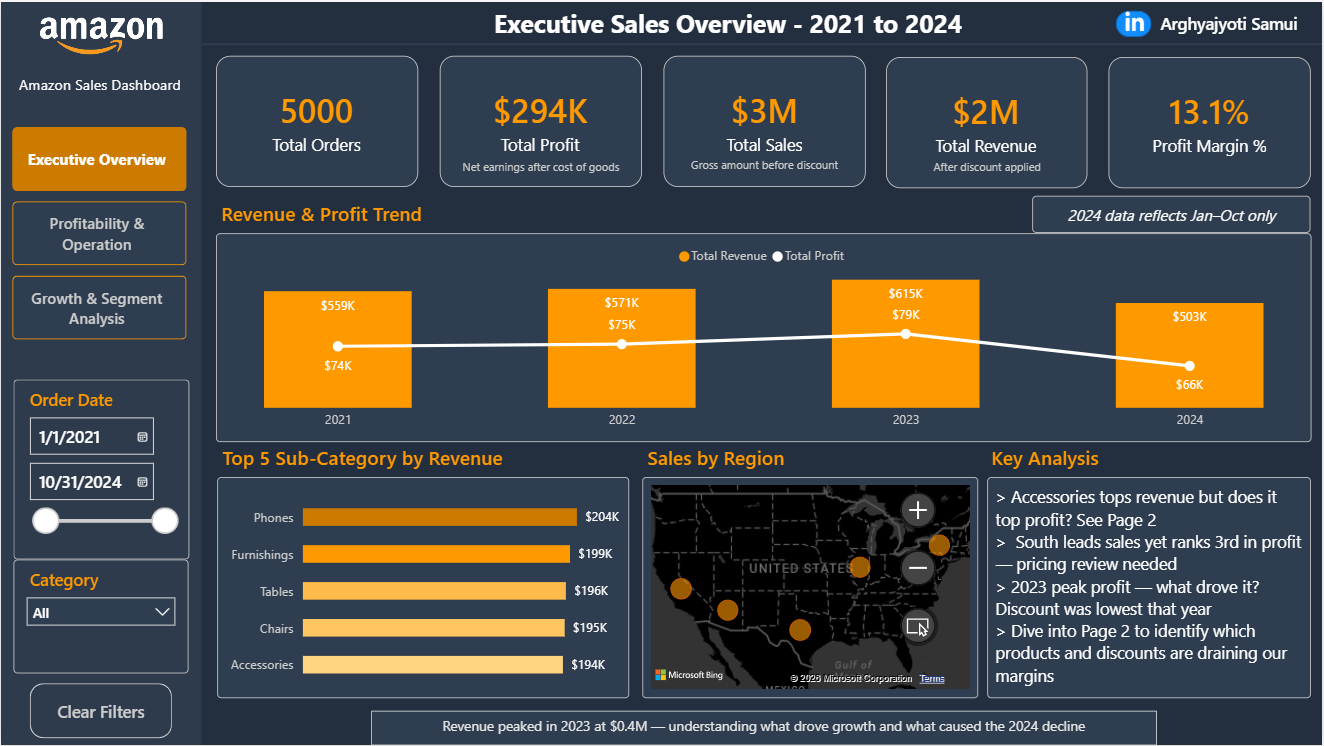

Layout of this report page (visuals, bound fields, positions):
{"tool":"powerbi","page":{"name":"Executive Overview","canvas":[1280,720],"ordinal":0},"visuals":[{"type":"shape","box":[0,0,194.3,720],"z":0},{"type":"textbox","box":[11.4,65.7,170,50],"z":1000},{"type":"textbox","box":[354.3,0,701.4,47.1],"z":2000},{"type":"image","box":[0,0,194.3,65.7],"z":3000},{"type":"slicer","fields":{"Values":["orders_partitioned.order_date"]},"box":[12.1,365.6,170.7,174.3],"z":4000},{"type":"slicer","fields":{"Values":["orders_partitioned.category"]},"box":[12.1,539.9,169.5,110.2],"z":5000},{"type":"actionButton","box":[27.8,659.7,138,53.3],"z":6000},{"type":"shape","box":[194.8,33.4,1085.2,13.9],"z":7000},{"type":"lineStackedColumnComboChart","fields":{"Category":["Date Table.Year"],"Y":["Measure table.Total Revenue"],"Y2":["Measure Table.Total Profit"]},"box":[208.2,223.9,1061.6,202.2],"z":8000},{"type":"cardVisual","fields":{"Data":["Measure table.Total Sales"]},"box":[208.2,52.1,195.7,127.1],"z":9000},{"type":"cardVisual","fields":{"Data":["Measure table.Total Profit"]},"box":[424.7,52.1,195.7,127.1],"z":10000},{"type":"textbox","box":[208.2,187.6,522.9,36.3],"z":11000},{"type":"cardVisual","fields":{"Data":["Measure table.Total Revenue"]},"box":[858,53.3,194.9,127.1],"z":12000},{"type":"cardVisual","fields":{"Data":["Measure table.Profit Margin %"]},"box":[1073.7,53.3,196.1,127.1],"z":13000},{"type":"clusteredBarChart","fields":{"Category":["orders_partitioned.sub-category"],"Y":["Measure table.Total Revenue"]},"box":[209.4,460,399.5,214.3],"z":14000},{"type":"textbox","box":[209.5,424.1,399.3,37],"z":15000},{"type":"textbox","box":[955.1,423.7,313.5,36.3],"z":16000},{"type":"cardVisual","fields":{"Data":["Measure table.Total Sales"]},"box":[641.6,52.1,196.1,127.1],"z":17000},{"type":"textbox","box":[621.2,424.1,325.2,37],"z":18000},{"type":"map","fields":{"Category":["orders_partitioned.state"],"Size":["Measure table.Profit Margin %"]},"box":[621,460,325.6,214.3],"z":19000},{"type":"textbox","box":[956.3,460,313.5,214.3],"z":20000},{"type":"textbox","box":[999.9,187.6,269.9,36.3],"z":21000},{"type":"textbox","box":[863.1,144,184,36.3],"z":22000},{"type":"textbox","box":[358.3,686.4,761.4,33.9],"z":23000},{"type":"textbox","box":[647.6,142.8,184,36.3],"z":24000},{"type":"textbox","box":[430.9,144,184,36.3],"z":25000},{"type":"pageNavigator","box":[11.1,121,169.7,207.3],"z":26000},{"type":"shape","box":[1081,8.1,34.3,25.5],"z":28000,"group":"g1"},{"type":"image","box":[1089.9,6.8,19.4,25.5],"z":29000,"group":"g1"},{"type":"textbox","box":[1113.8,5.4,153.6,32.2],"z":30000,"group":"g1"},{"type":"group","id":"g1","title":"Signeture","box":[1081,1.4,186.4,39],"z":30001},{"type":"actionButton","box":[1081,1.4,186.4,39],"z":30500,"group":"g1"}]}

Visuals, with their boxes in screenshot pixels (x1, y1, x2, y2), scaled from the page's 1280x720 canvas onto the 1324x746 screenshot:
shape: 0, 0, 201, 745
textbox: 12, 68, 188, 120
textbox: 366, 0, 1092, 49
image: 0, 0, 201, 68
slicer - orders_partitioned.order_date: 13, 379, 189, 559
slicer - orders_partitioned.category: 13, 559, 188, 674
actionButton: 29, 684, 171, 739
shape: 201, 35, 1323, 49
lineStackedColumnComboChart - Date Table.Year x Measure table.Total Revenue: 215, 232, 1313, 441
cardVisual - Measure table.Total Sales: 215, 54, 418, 186
cardVisual - Measure table.Total Profit: 439, 54, 642, 186
textbox: 215, 194, 756, 232
cardVisual - Measure table.Total Revenue: 887, 55, 1089, 187
cardVisual - Measure table.Profit Margin %: 1111, 55, 1313, 187
clusteredBarChart - orders_partitioned.sub-category x Measure table.Total Revenue: 217, 477, 630, 699
textbox: 217, 439, 630, 478
textbox: 988, 439, 1312, 477
cardVisual - Measure table.Total Sales: 664, 54, 866, 186
textbox: 643, 439, 979, 478
map - orders_partitioned.state x Measure table.Profit Margin %: 642, 477, 979, 699
textbox: 989, 477, 1313, 699
textbox: 1034, 194, 1313, 232
textbox: 893, 149, 1083, 187
textbox: 371, 711, 1158, 745
textbox: 670, 148, 860, 186
textbox: 446, 149, 636, 187
pageNavigator: 11, 125, 187, 340
shape: 1118, 8, 1154, 35
image: 1127, 7, 1147, 33
textbox: 1152, 6, 1311, 39
"Signeture" group: 1118, 1, 1311, 42
actionButton: 1118, 1, 1311, 42
